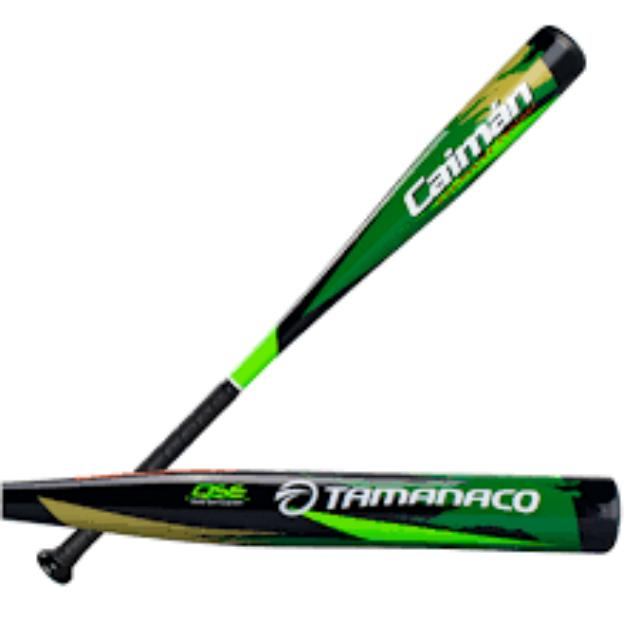baseball bat: (39, 16, 598, 575), (4, 469, 622, 553)
